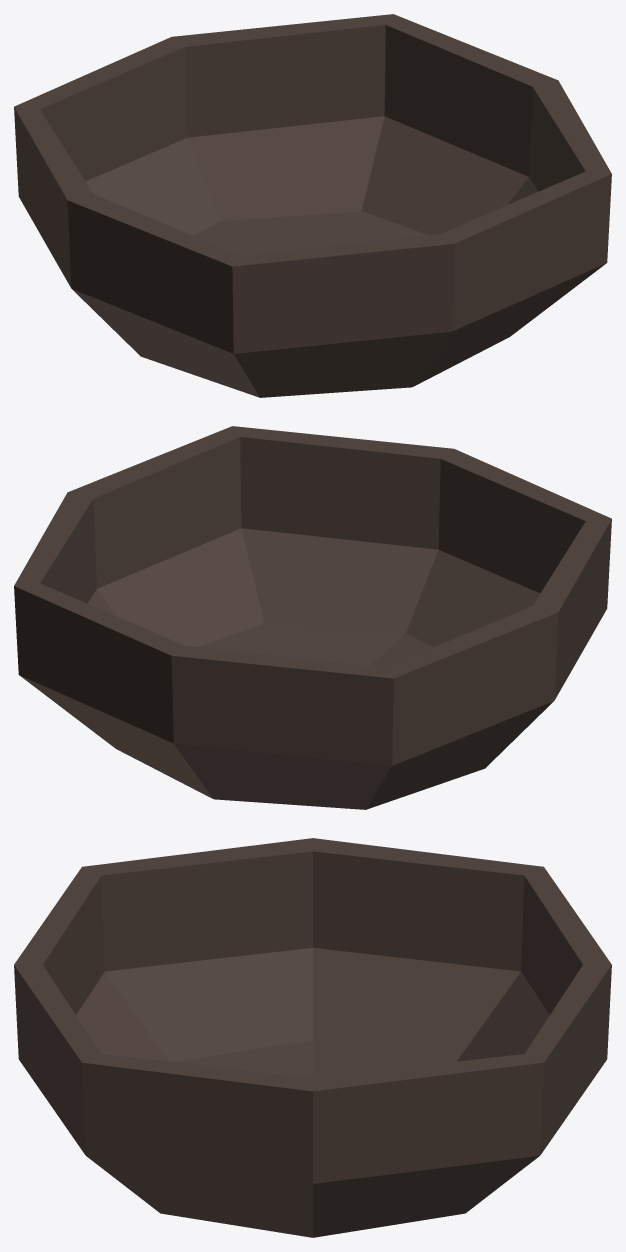
File: woodBowlClosed.fbx
The picture shows the model from 3 angles, top to bottom: view 1: azimuth 30°, elevation 25°; view 2: azimuth 150°, elevation 25°; view 3: azimuth 270°, elevation 25°; orthographic projection. The views are drawn at different scales.
Visible parts, largest first — view 1: woodBowlClosed; view 2: woodBowlClosed; view 3: woodBowlClosed.
Boxes of the visible parts, left/top/right/bottom form: woodBowlClosed: left=14, top=14, right=611, bottom=397; woodBowlClosed: left=14, top=426, right=611, bottom=809; woodBowlClosed: left=14, top=838, right=611, bottom=1237.
Bounding box in the file's own units: 20.99 × 7.12 × 20.94.
1 material, 1 textured.
